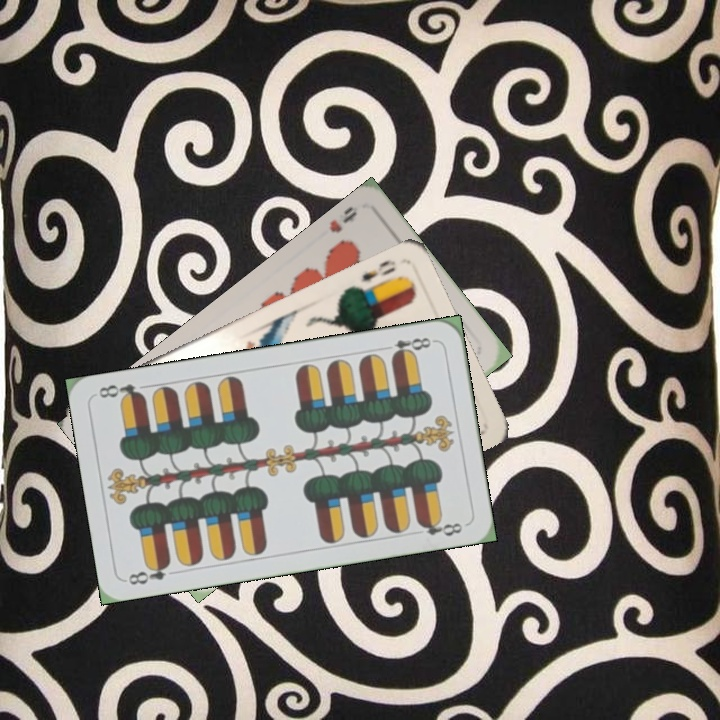E8: (379, 333, 438, 361), (124, 557, 173, 588)
EO: (357, 255, 398, 285)
H9: (325, 202, 360, 236)
